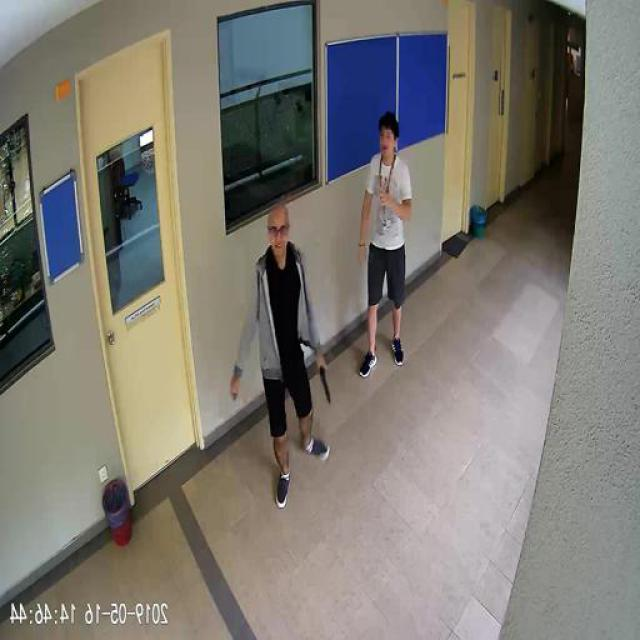Gun: (320, 361, 332, 401)
